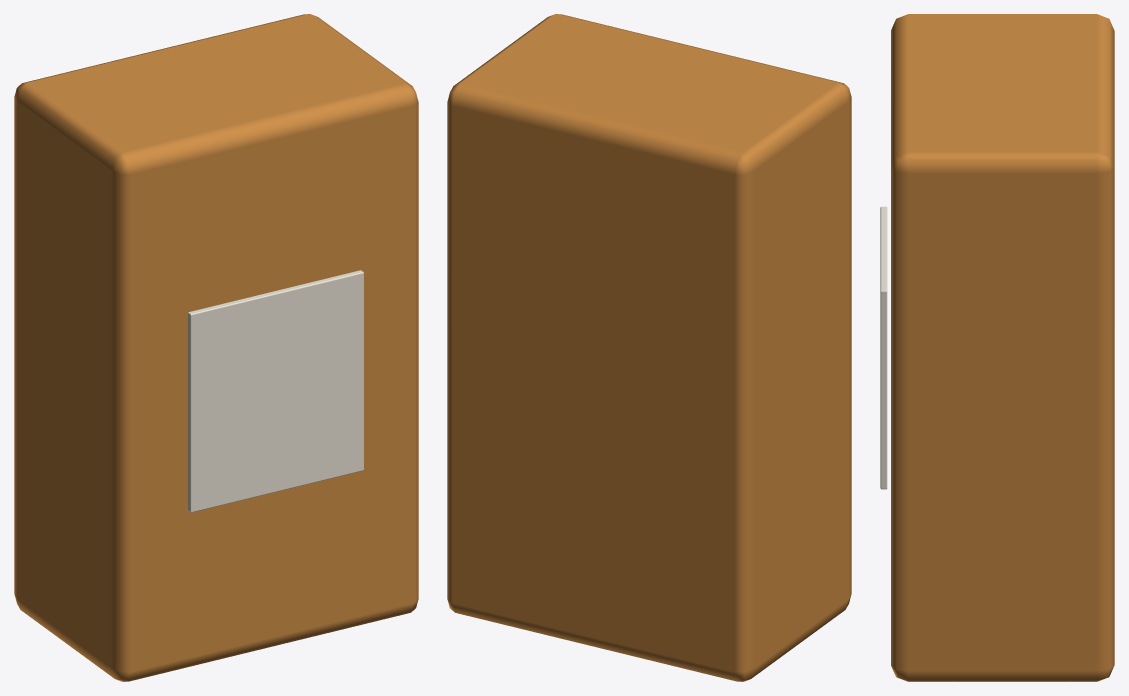
File: wp-paquet-de-farine.glb
3 renders of one model, left to right at view 1: azimuth 30°, elevation 25°; view 2: azimuth 150°, elevation 25°; view 3: azimuth 270°, elevation 25°, orthographic.
Visible parts, largest first — view 1: wp-paquet-de-farine; view 2: wp-paquet-de-farine; view 3: wp-paquet-de-farine.
Boxes of the visible parts, x1,y1,x2,y2 form: wp-paquet-de-farine: (14, 14, 418, 681); wp-paquet-de-farine: (447, 14, 851, 681); wp-paquet-de-farine: (880, 14, 1114, 681).
Bounding box in the file's own units: 0.12 × 0.2 × 0.08.
